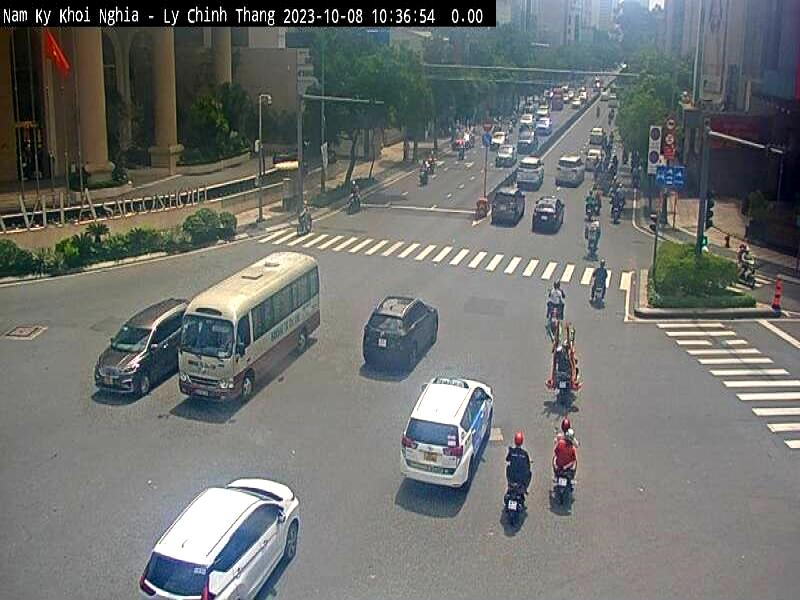bus: (178, 250, 324, 403)
car: (139, 477, 302, 599), (399, 376, 499, 505), (94, 300, 190, 404), (362, 295, 440, 382), (489, 185, 525, 229), (531, 195, 567, 235)
motorcycle: (550, 468, 578, 506), (504, 486, 528, 528)
